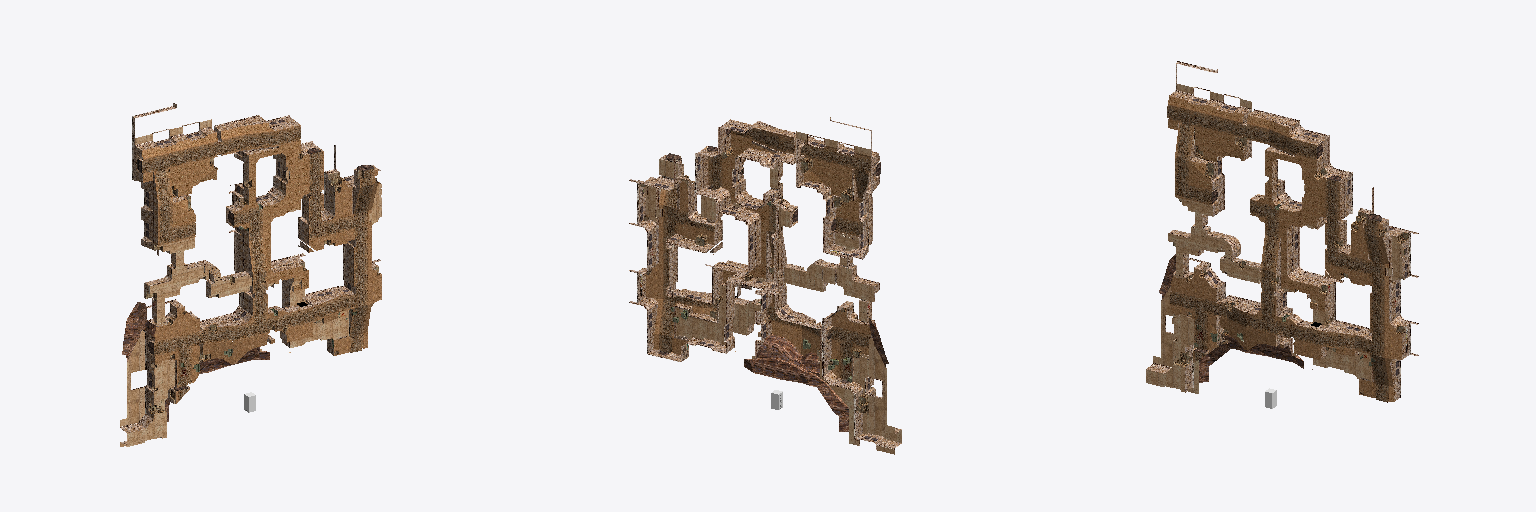
3 views of the same model, side by side, from view 1: azimuth 30°, elevation 25°; view 2: azimuth 150°, elevation 25°; view 3: azimuth 330°, elevation 25° (orthographic).
Parts seen in each view (by area): view 1: de_dust2; view 2: de_dust2; view 3: de_dust2.
Boxes of the visible parts, x1,y1,x2,y2 form: de_dust2: [120, 103, 381, 446]; de_dust2: [629, 117, 901, 454]; de_dust2: [1146, 61, 1418, 408].
Size of the model in its own units: 191 by 227 by 25.95.
34 materials, 33 textured.